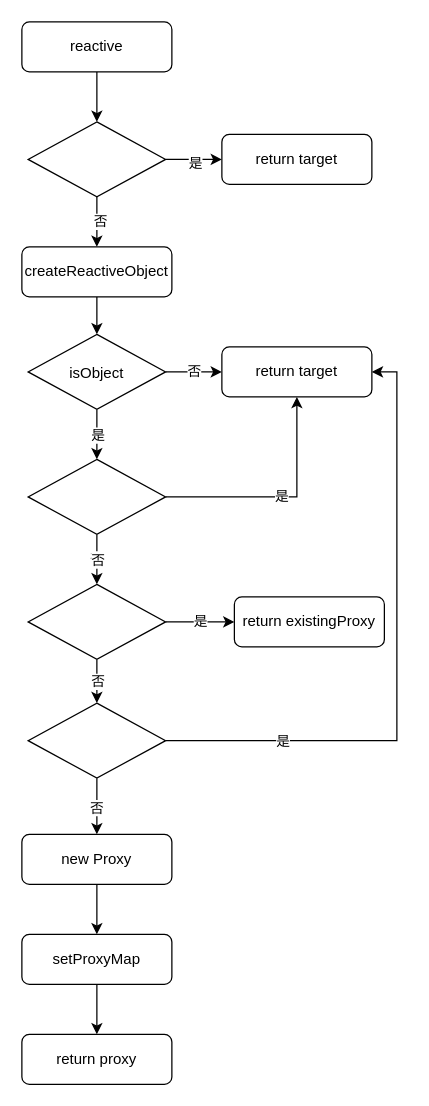
Some shapes in this 429 by 1106 pixel diagram are drawn without their labels. The box of each missing label's shape, as (x1, y1, x2, y2) in pixels:
hasExistingProxy: (27, 583, 166, 659)
isInvalidTargetType: (27, 702, 166, 778)
isProxy: (27, 458, 166, 534)
isReadonly: (27, 121, 166, 197)
